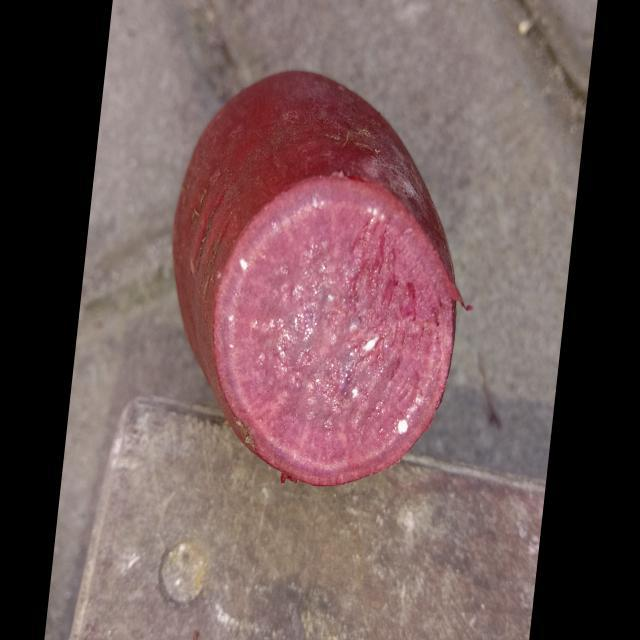Healthy Sweet Potato: (212, 178, 460, 485)
